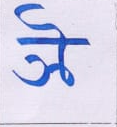e_matra: (13, 1, 74, 37)
